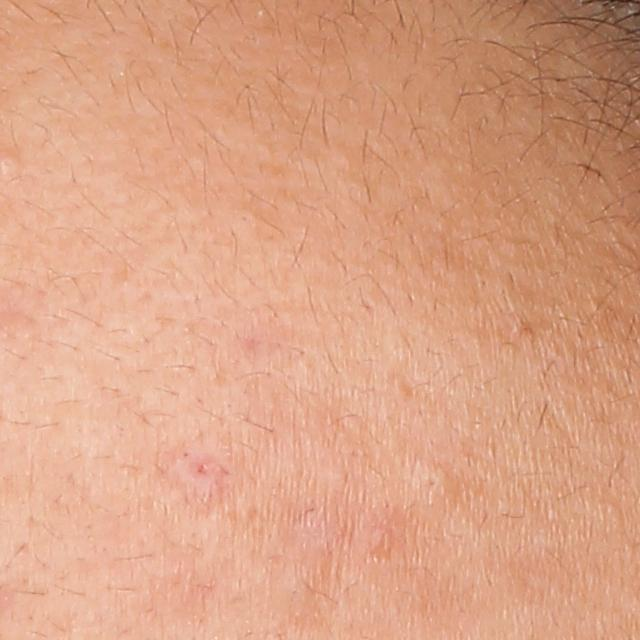comedo: (413, 459, 452, 511)
